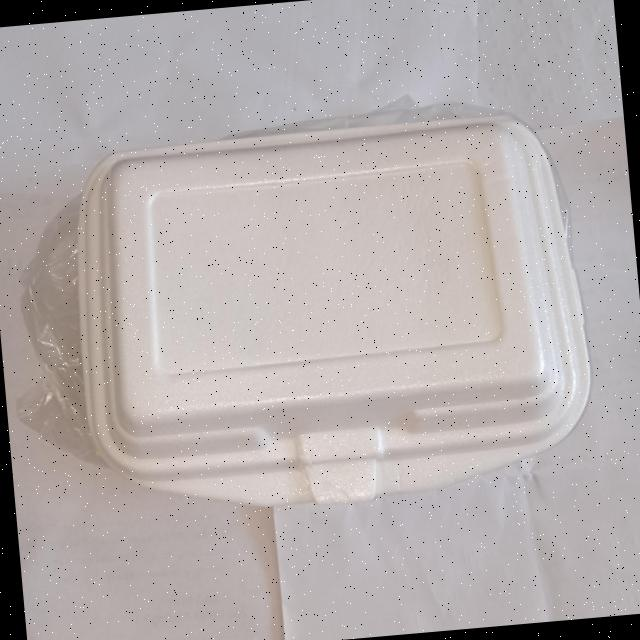styrofoam: (59, 98, 602, 526)
